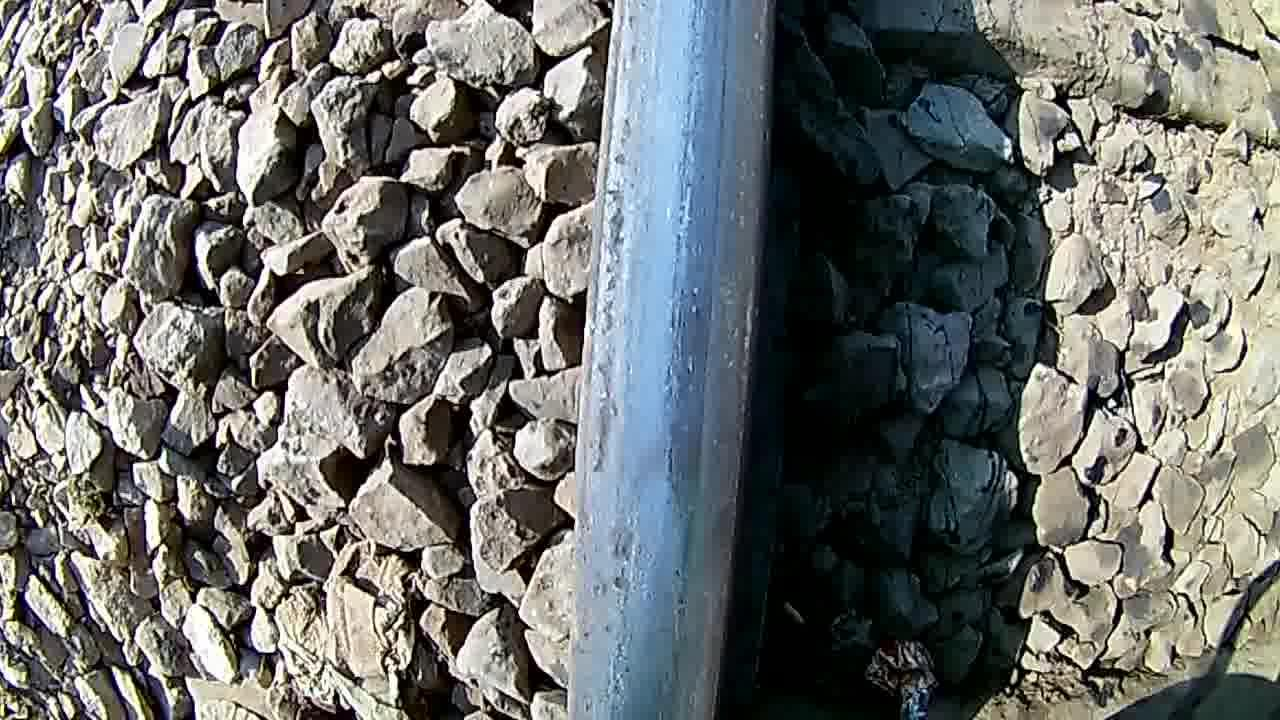crack: (586, 3, 749, 719)
